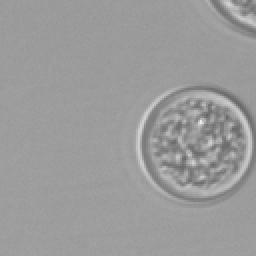picoshell: (138, 86, 252, 198), (206, 0, 254, 34)
